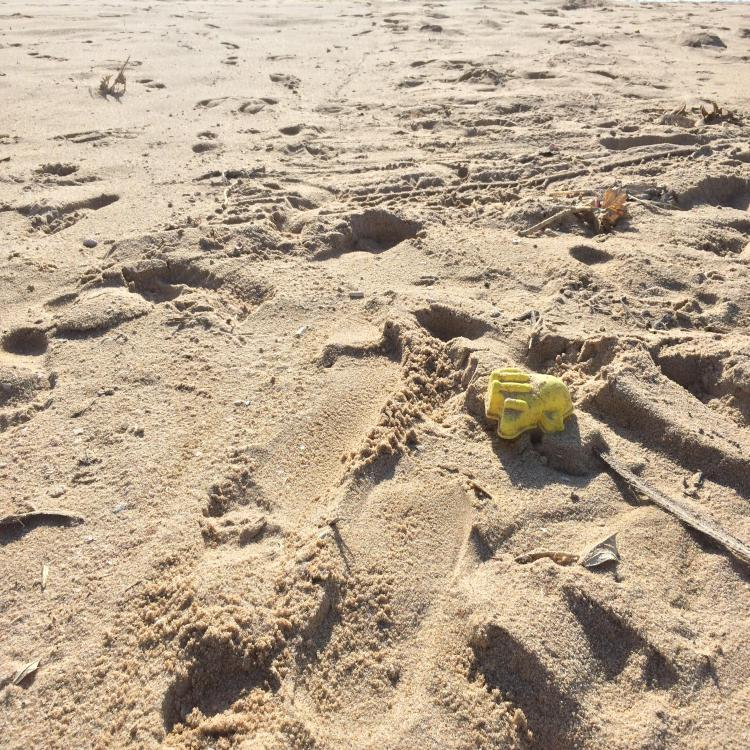Cigarette: (349, 292, 364, 296)
Other plastic wrapper: (484, 368, 575, 439)
